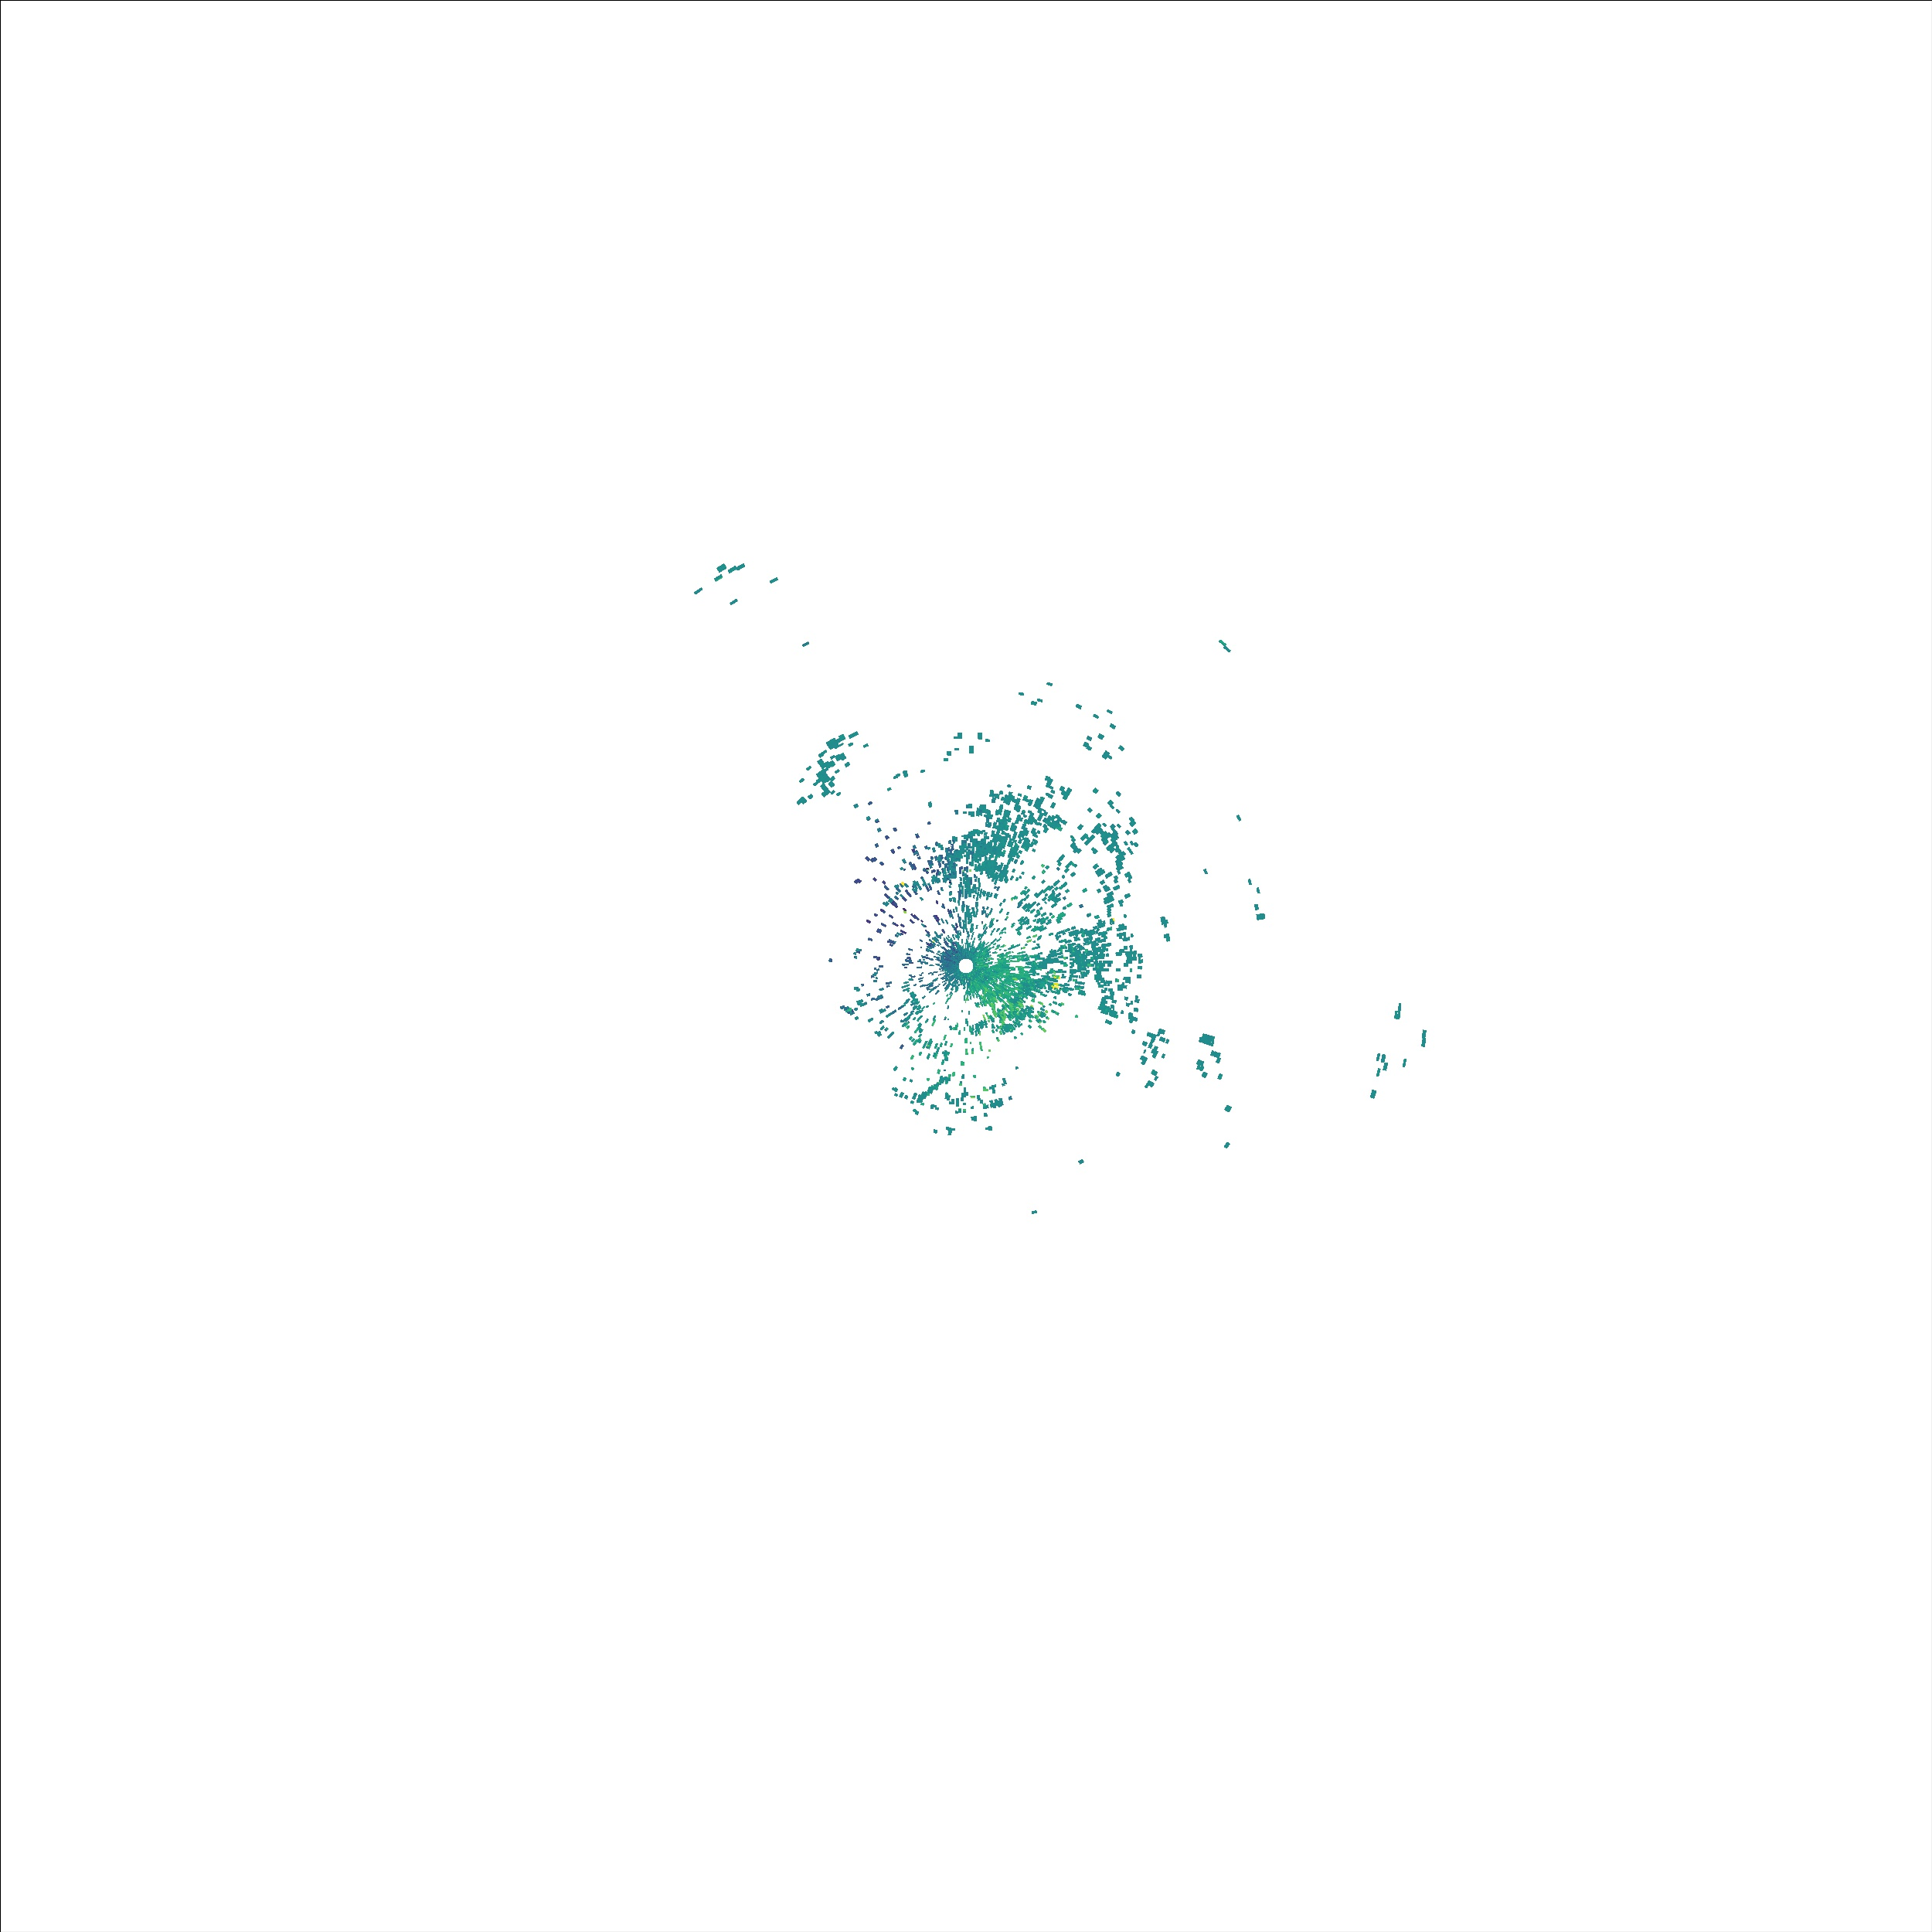fall: (837, 1003, 860, 1023)
